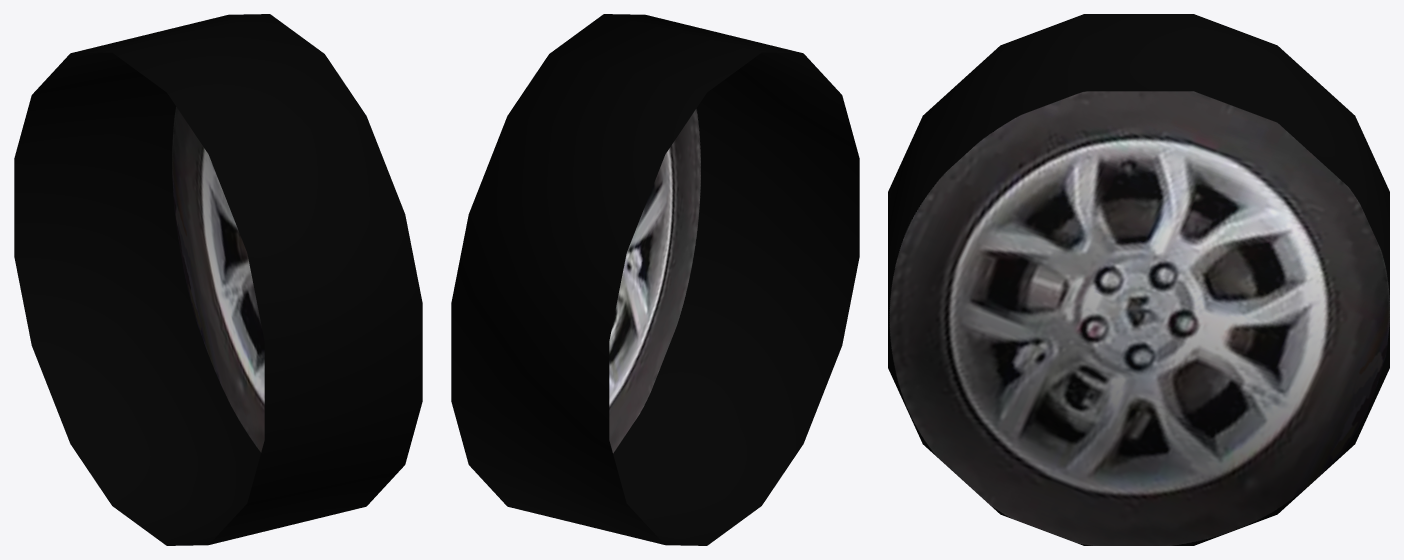
The model's file is DenaTire.fbx.
3 renders of one model, left to right at view 1: azimuth 30°, elevation 25°; view 2: azimuth 150°, elevation 25°; view 3: azimuth 270°, elevation 25°, orthographic.
Parts seen in each view (by area): view 1: DenaTire; view 2: DenaTire; view 3: DenaTire.
Boxes of the visible parts, x1=… form: DenaTire: x1=14, y1=14, x2=422, y2=545; DenaTire: x1=451, y1=14, x2=859, y2=545; DenaTire: x1=888, y1=14, x2=1389, y2=545.
Size of the model in its own units: 23.45 by 64.32 by 64.32.
